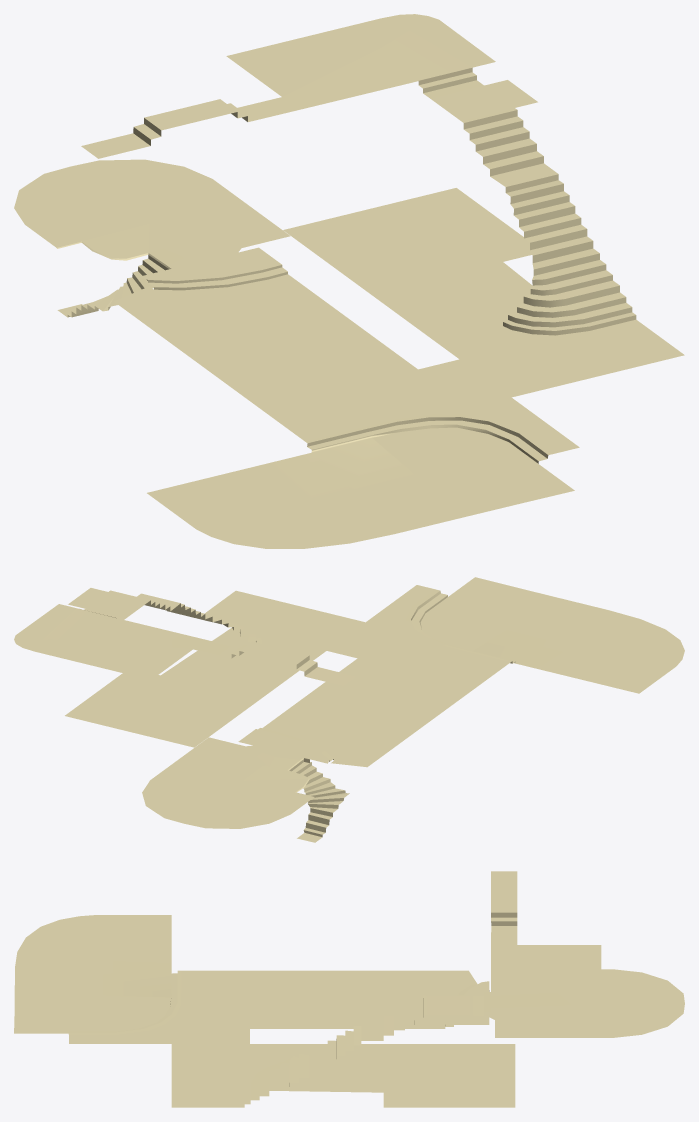
The model's file is Floor.fbx.
3 renders of one model, top to bottom at view 1: azimuth 30°, elevation 25°; view 2: azimuth 150°, elevation 25°; view 3: azimuth 270°, elevation 25°, orthographic. The views are drawn at different scales.
Visible parts, largest first — view 1: Floor; view 2: Floor; view 3: Floor.
Part boxes in pixels (left/top/right/bottom): Floor: left=14, top=14, right=684, bottom=548; Floor: left=14, top=577, right=684, bottom=842; Floor: left=14, top=871, right=684, bottom=1107.
Bounding box in the file's own units: 1386 × 474 × 1904.
